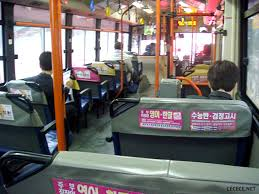seat: (77, 62, 115, 115)
